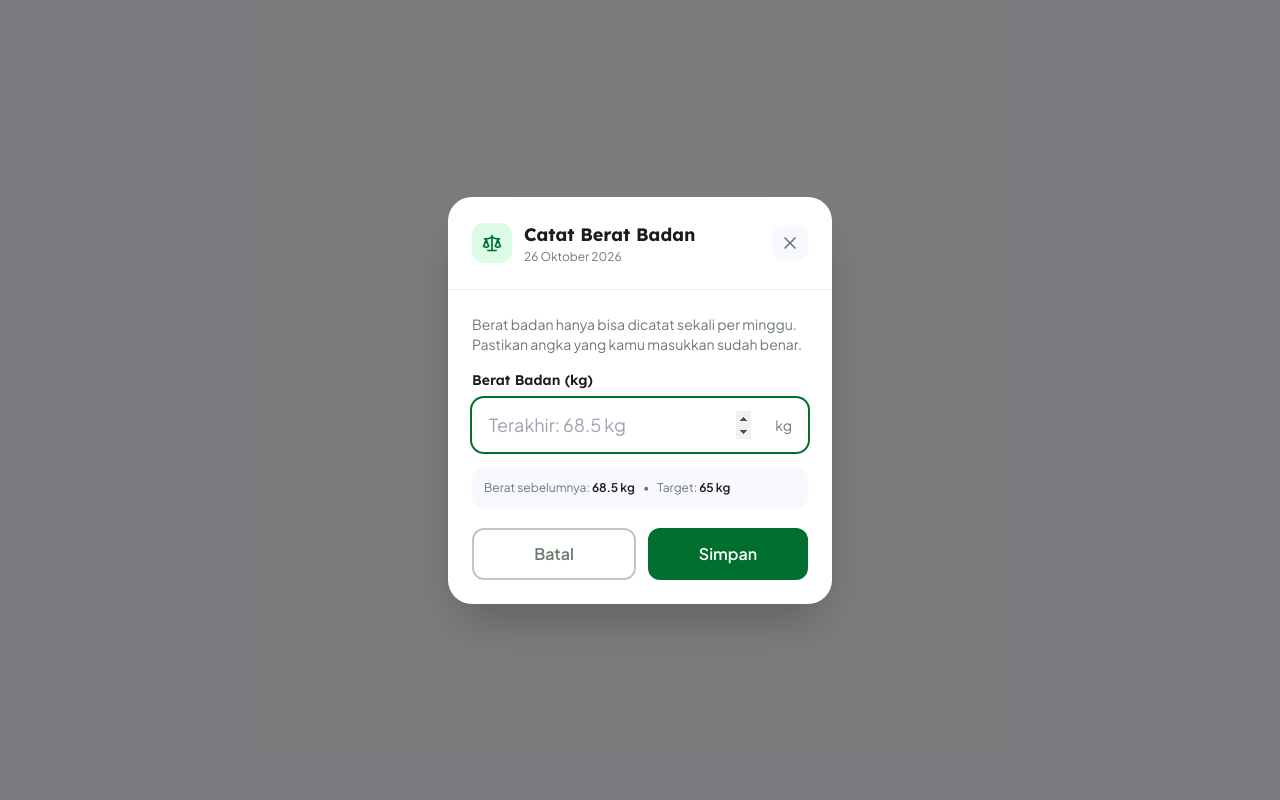
Scenario: WeightInputModal Component › menampilkan error saat submit tanpa mengisi input
Click the button with test id "btn-simpan-berat".
click(728, 554)  # box [648,528,808,580]
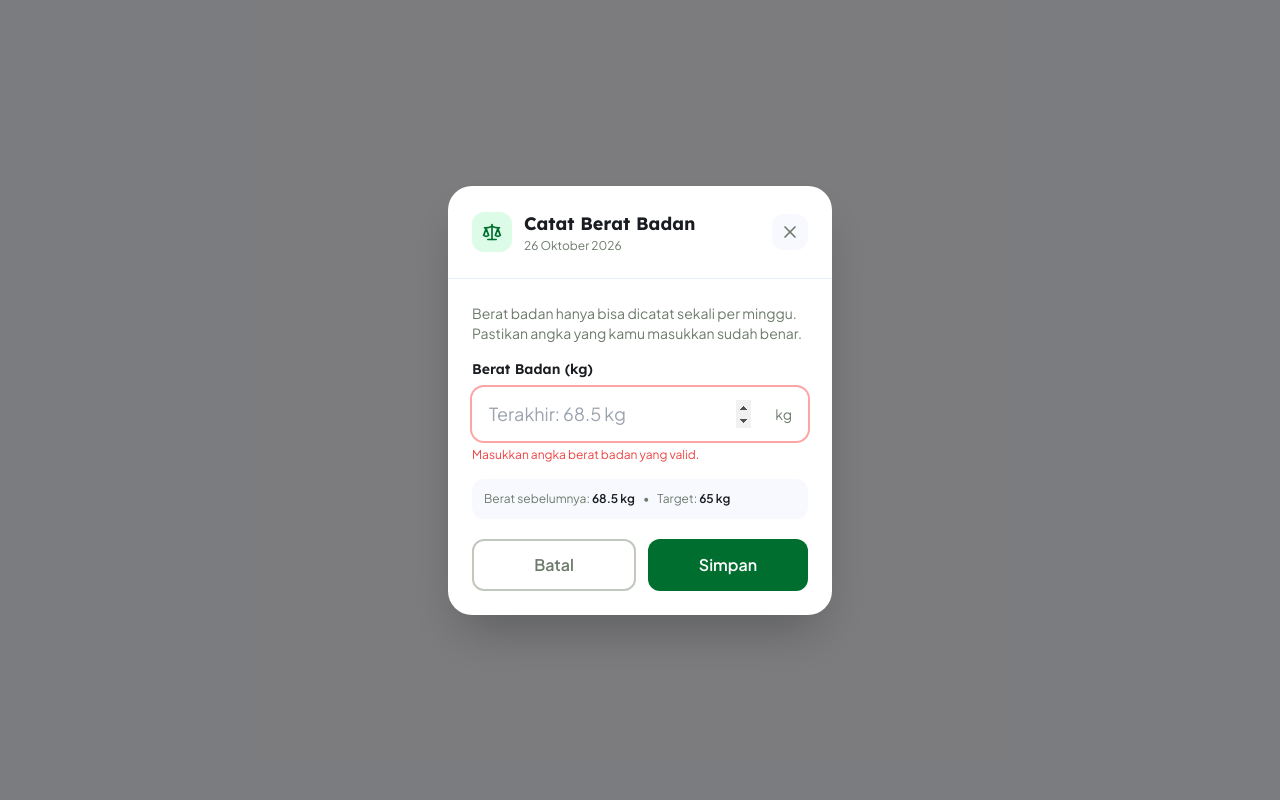
Expected: the text "Masukkan angka berat badan yang valid." is shown, [472,446,699,462]
